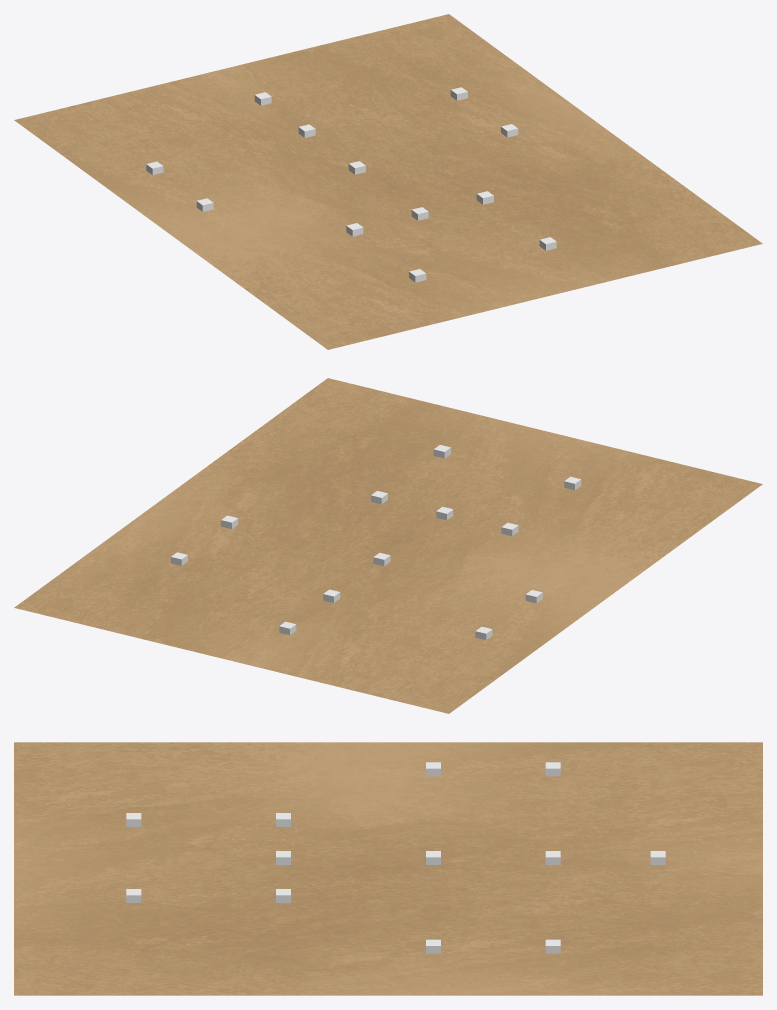
3 views of the same model, one above another, from view 1: azimuth 30°, elevation 25°; view 2: azimuth 150°, elevation 25°; view 3: azimuth 270°, elevation 25° (orthographic). The views are drawn at different scales.
Parts seen in each view (by area): view 1: Background_40x40; view 2: Background_40x40; view 3: Background_40x40.
Part boxes in pixels (bbox=[...]): Background_40x40: bbox=[14, 14, 762, 349]; Background_40x40: bbox=[14, 378, 762, 713]; Background_40x40: bbox=[14, 742, 762, 995].
Size of what is drawn, in the model's own units: 40 by 1 by 50.
